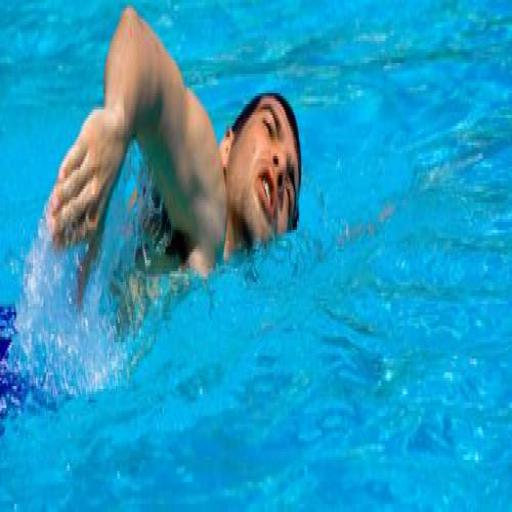swimming: (45, 3, 303, 334)
